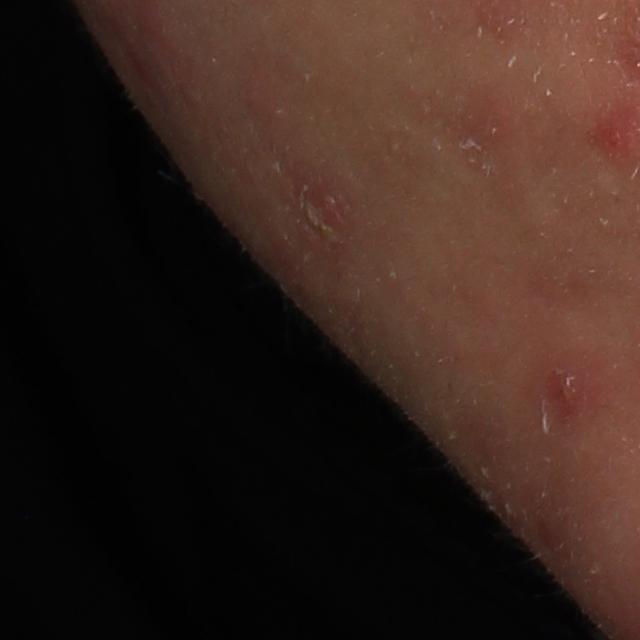papule: (291, 172, 350, 225), (548, 358, 595, 410)
